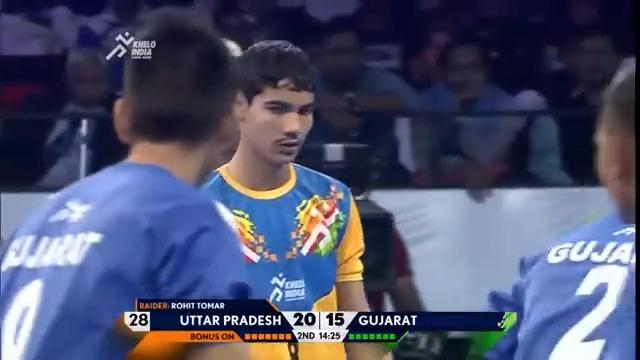Player: (0, 6, 256, 358), (482, 60, 638, 358)
Raider: (194, 38, 391, 358)
referee: (297, 138, 440, 358), (340, 193, 435, 358), (34, 45, 127, 190)
